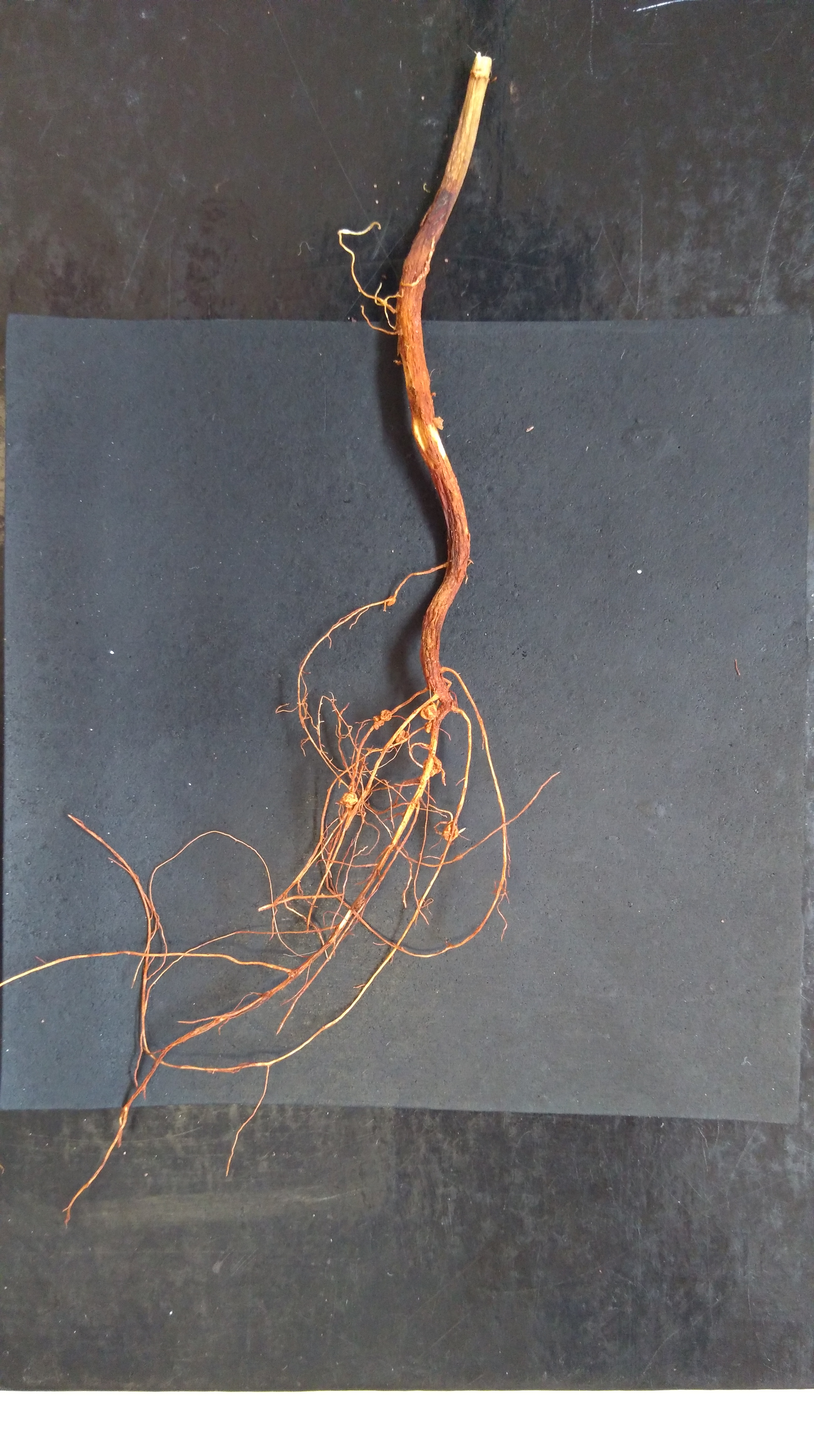nodule: (421, 755, 444, 778), (442, 820, 460, 842), (339, 790, 360, 808), (419, 704, 438, 721), (394, 729, 410, 744), (380, 708, 394, 723), (384, 595, 399, 607), (423, 721, 434, 734), (373, 719, 385, 730), (372, 715, 380, 722)
